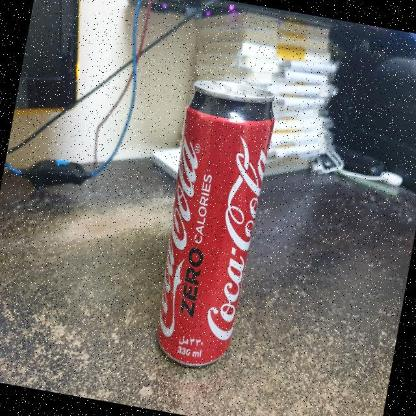Can: (141, 64, 287, 378)
